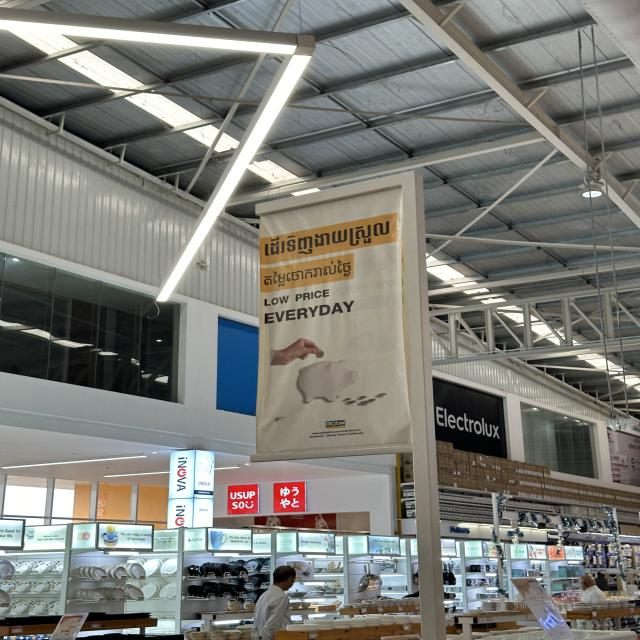Yolov11kh: (259, 215, 394, 263), (260, 256, 354, 290)
